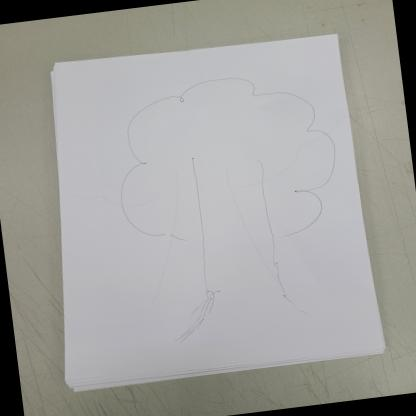crown_cloud: (107, 63, 346, 255)
trunk_straight: (194, 202, 284, 286)
